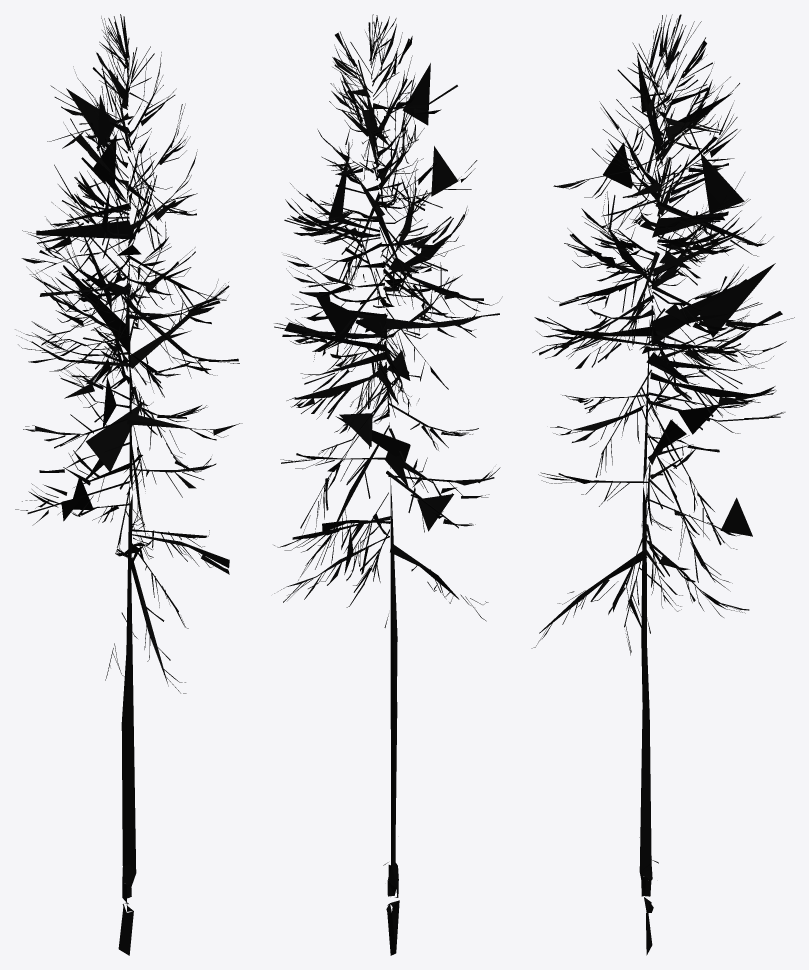
The model's file is Fir_Tall_A.glb.
The picture shows the model from 3 angles, left to right: view 1: azimuth 30°, elevation 25°; view 2: azimuth 150°, elevation 25°; view 3: azimuth 270°, elevation 25°; orthographic projection. The views are drawn at different scales.
Visible parts, largest first — view 1: tree; view 2: tree; view 3: tree.
Part boxes in pixels (box(x1,y1,x2,y2)): tree: box(15, 14, 242, 955); tree: box(274, 14, 502, 955); tree: box(531, 14, 794, 955).
Bounding box in the file's own units: 4.7 × 20.88 × 5.31.
1 material, 1 textured.
